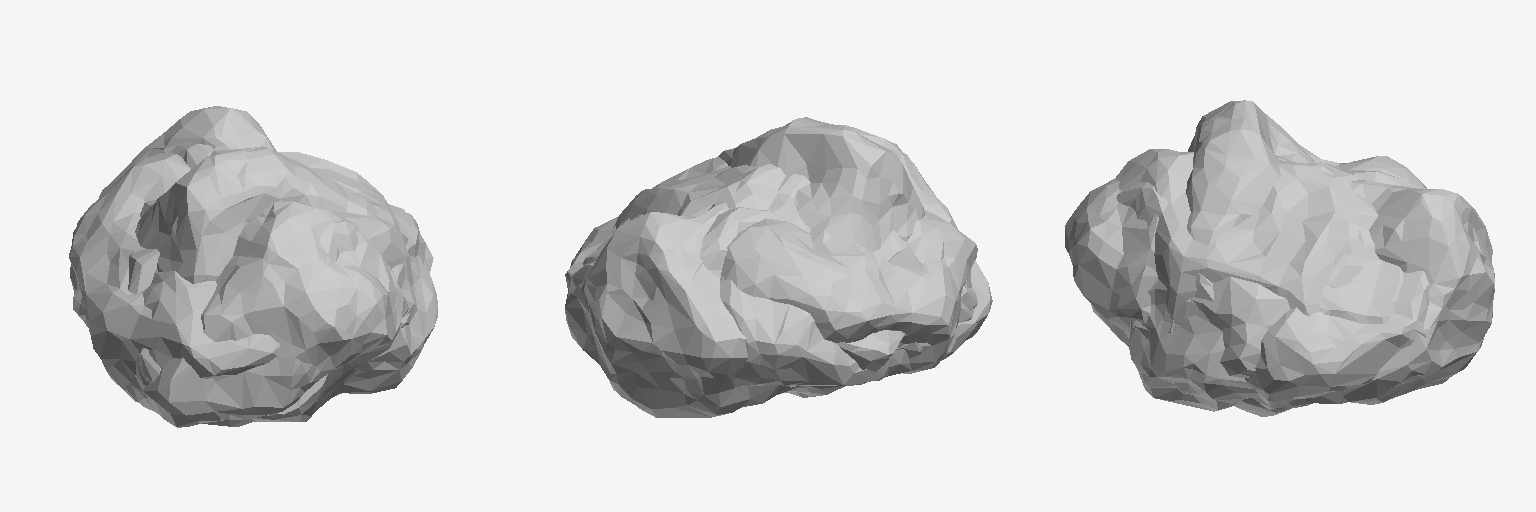
File: Mossy_Rock_Pack_center.obj
3 views of the same model, side by side, from view 1: azimuth 30°, elevation 25°; view 2: azimuth 150°, elevation 25°; view 3: azimuth 270°, elevation 25° (orthographic).
Parts seen in each view (by area): view 1: rock_04_Cube.005, rock_05_Cube.006, rock_02_Cube.003, rock_01_Cube.001, rock_03_Cube.004; view 2: rock_04_Cube.005, rock_02_Cube.003, rock_05_Cube.006, rock_01_Cube.001, rock_03_Cube.004; view 3: rock_04_Cube.005, rock_01_Cube.001, rock_05_Cube.006, rock_02_Cube.003, rock_03_Cube.004, rock_06_Cube.007.
Part boxes in pixels (x1,y1,x2,y2): rock_04_Cube.005: (99, 106, 408, 427); rock_05_Cube.006: (73, 146, 437, 393); rock_02_Cube.003: (69, 152, 420, 401); rock_01_Cube.001: (70, 149, 411, 293); rock_03_Cube.004: (139, 143, 433, 421); rock_04_Cube.005: (565, 125, 992, 417); rock_02_Cube.003: (565, 210, 977, 376); rock_05_Cube.006: (718, 117, 924, 397); rock_01_Cube.001: (615, 157, 923, 386); rock_03_Cube.004: (583, 206, 977, 310); rock_04_Cube.005: (1065, 149, 1494, 416); rock_01_Cube.001: (1116, 160, 1377, 407); rock_05_Cube.006: (1129, 100, 1338, 411); rock_02_Cube.003: (1245, 156, 1428, 409); rock_03_Cube.004: (1091, 168, 1425, 394); rock_06_Cube.007: (1163, 228, 1378, 324).
Bounding box in the file's own units: 2.84 × 2 × 3.07.